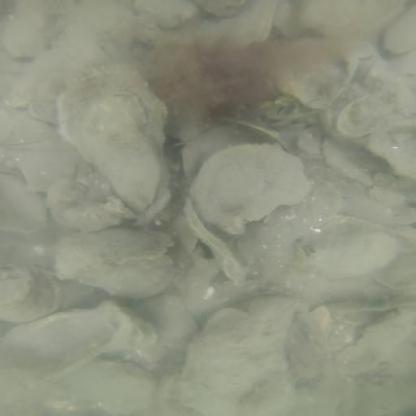Oyster-Closed: (188, 142, 310, 235), (57, 63, 167, 162), (178, 319, 289, 416), (81, 91, 161, 212), (216, 38, 360, 103), (53, 248, 177, 298), (64, 358, 155, 416), (300, 228, 399, 279), (199, 0, 280, 52), (61, 225, 173, 262), (135, 291, 198, 350), (248, 294, 296, 323), (207, 308, 249, 340), (387, 8, 416, 52)
